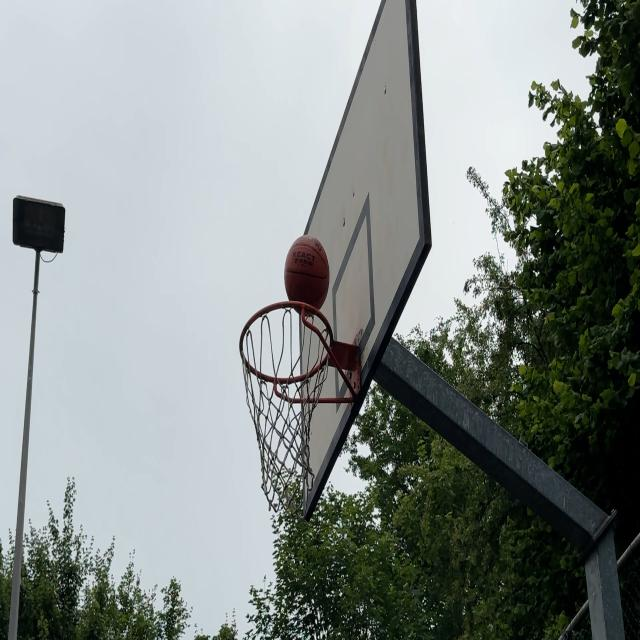rebound_hit: (285, 235, 330, 319)
